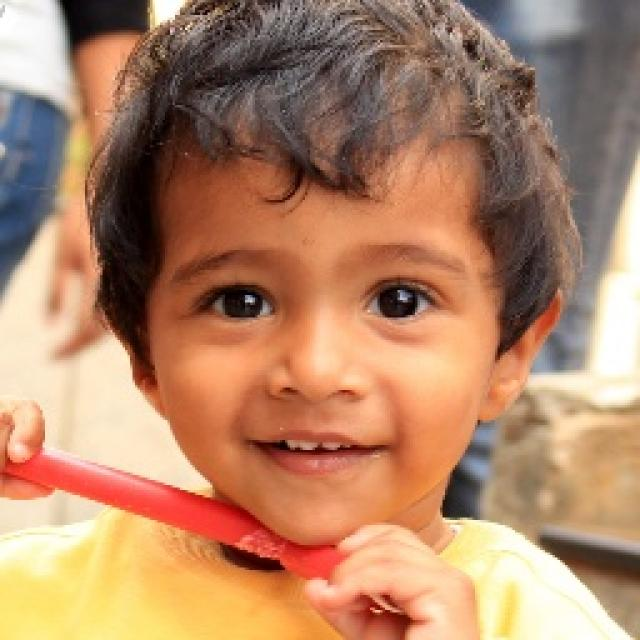earlobe: (478, 284, 566, 425), (95, 269, 168, 421)
